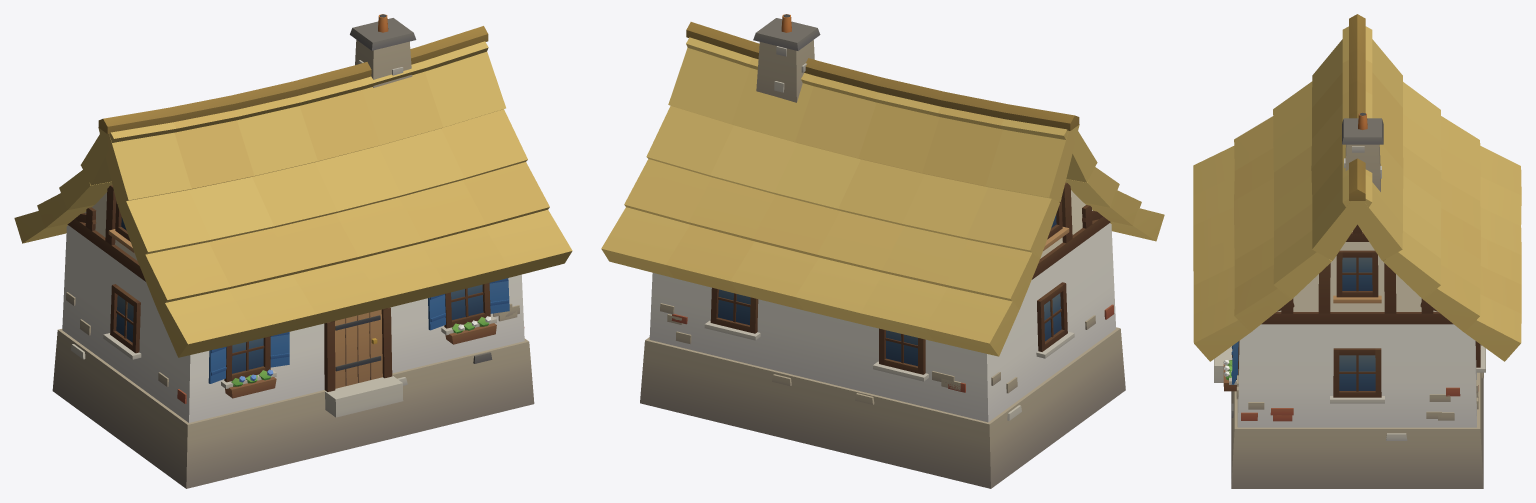
Rendered from house_03_thatched_cottage.glb.
3 views of the same model, side by side, from view 1: azimuth 30°, elevation 25°; view 2: azimuth 150°, elevation 25°; view 3: azimuth 270°, elevation 25° (orthographic). The views are drawn at different scales.
Visible parts, largest first — view 1: house_03_thatched_cottage; view 2: house_03_thatched_cottage; view 3: house_03_thatched_cottage.
Part boxes in pixels (<box>): house_03_thatched_cottage: <box>14,14,572,488</box>; house_03_thatched_cottage: <box>601,14,1164,488</box>; house_03_thatched_cottage: <box>1193,14,1521,488</box>.
Bounding box in the file's own units: 31.36 × 27.7 × 24.47.
1 material, 1 textured.
